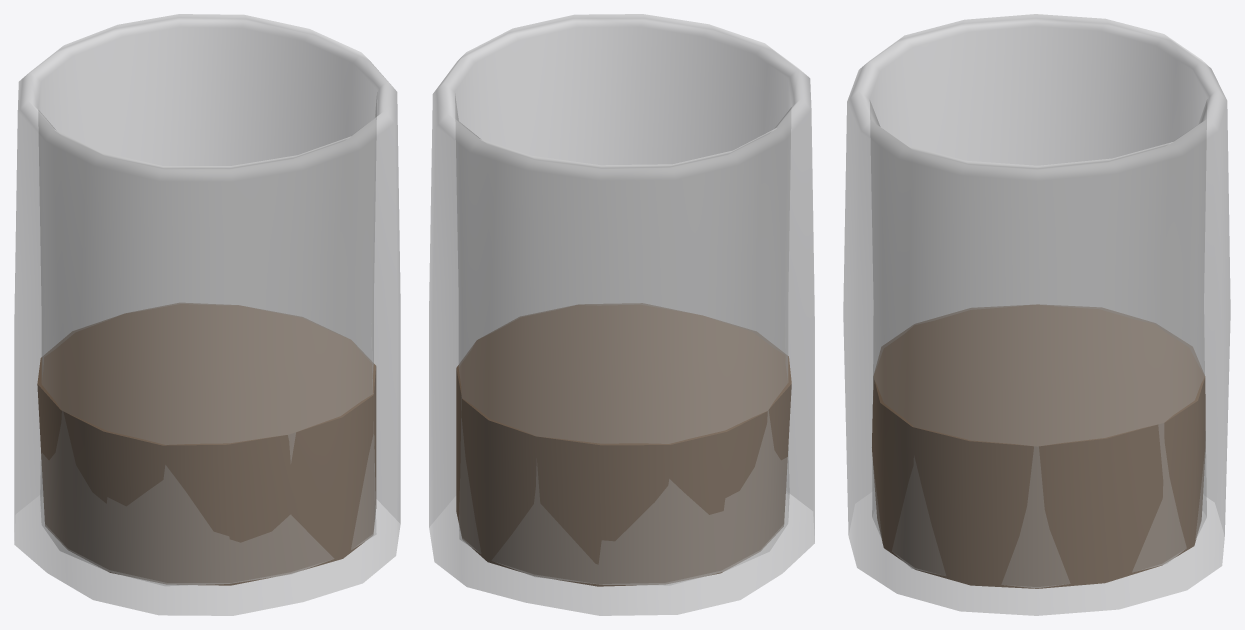
The model's file is glass_mv.fbx.
3 renders of one model, left to right at view 1: azimuth 30°, elevation 25°; view 2: azimuth 150°, elevation 25°; view 3: azimuth 270°, elevation 25°, orthographic.
Parts seen in each view (by area): view 1: pCube14, pPlane2; view 2: pCube14, pPlane2; view 3: pCube14, pPlane2.
Part boxes in pixels (bbox=[...]): pCube14: bbox=[14, 14, 400, 615]; pPlane2: bbox=[37, 303, 376, 585]; pCube14: bbox=[429, 14, 814, 615]; pPlane2: bbox=[456, 303, 791, 586]; pCube14: bbox=[843, 14, 1230, 615]; pPlane2: bbox=[872, 304, 1205, 588].
Size of the model in its own units: 0.6373 by 0.8144 by 0.6418.
